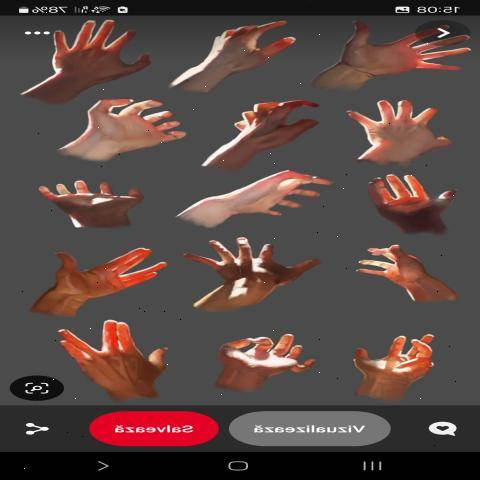Hands: (165, 142, 338, 237), (11, 227, 173, 325), (9, 11, 156, 111), (178, 223, 331, 310), (302, 18, 472, 90), (180, 91, 330, 172), (45, 80, 182, 168), (42, 310, 180, 395), (162, 11, 298, 89), (197, 320, 329, 391), (25, 154, 147, 226), (344, 167, 464, 236), (333, 323, 452, 392), (341, 89, 457, 157), (336, 241, 452, 307)
